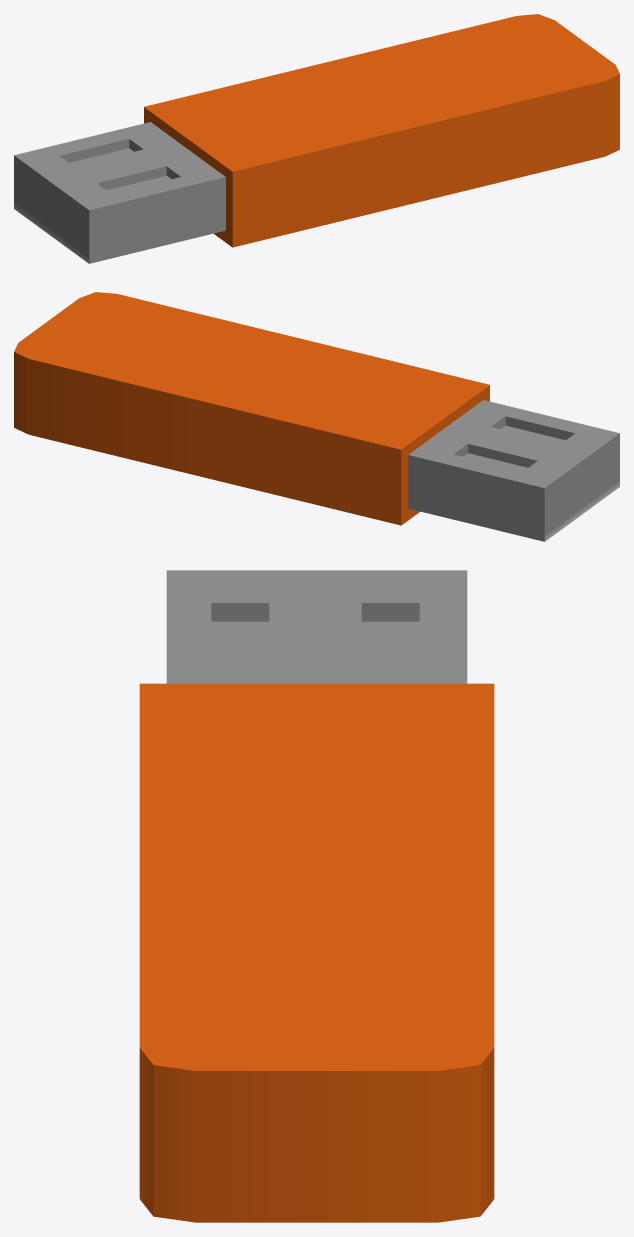
The model's file is usb.fbx.
The picture shows the model from 3 angles, top to bottom: view 1: azimuth 30°, elevation 25°; view 2: azimuth 150°, elevation 25°; view 3: azimuth 270°, elevation 25°; orthographic projection. The views are drawn at different scales.
Parts seen in each view (by area): view 1: usb; view 2: usb; view 3: usb.
Boxes of the visible parts, <box> form: usb: <box>14,14,619,263</box>; usb: <box>14,292,619,541</box>; usb: <box>139,570,494,1222</box>.
Size of the model in its own units: 0.0521 by 0.00707 by 0.015.
